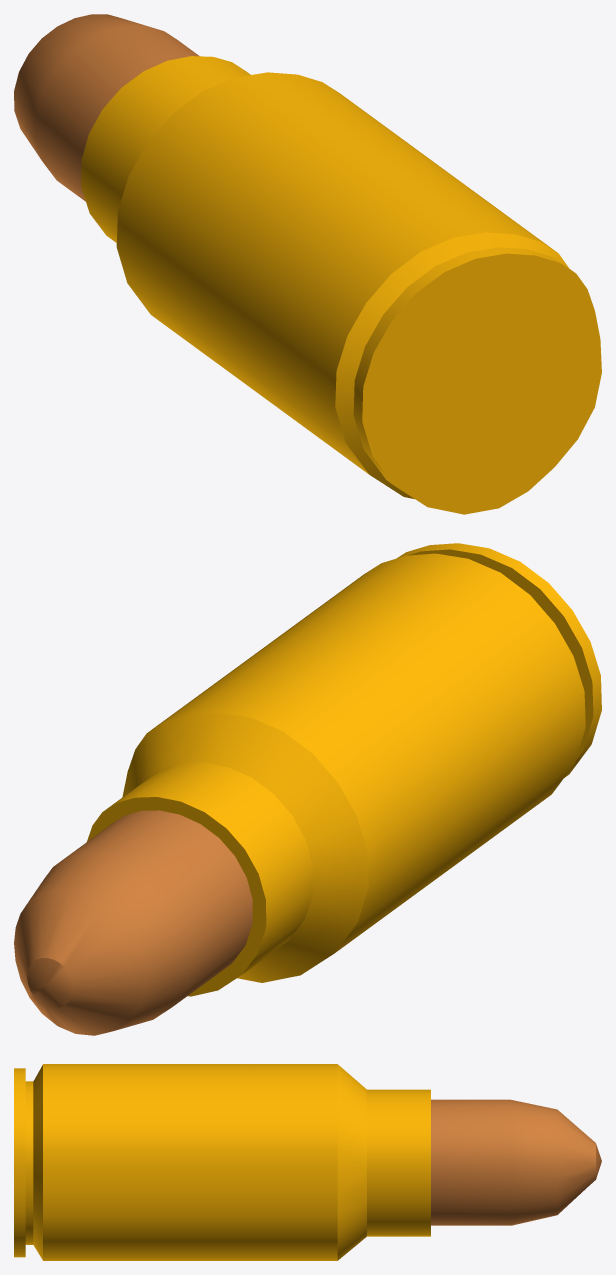
Rendered from Bullet.fbx.
The picture shows the model from 3 angles, top to bottom: view 1: azimuth 30°, elevation 25°; view 2: azimuth 150°, elevation 25°; view 3: azimuth 270°, elevation 25°; orthographic projection. The views are drawn at different scales.
Parts seen in each view (by area): view 1: Bullet; view 2: Bullet; view 3: Bullet.
Boxes of the visible parts, bbox=[...] form: Bullet: bbox=[14, 14, 601, 514]; Bullet: bbox=[14, 543, 601, 1035]; Bullet: bbox=[14, 1064, 601, 1260].
Size of the model in its own units: 0.2361 by 0.2394 by 0.7111.
